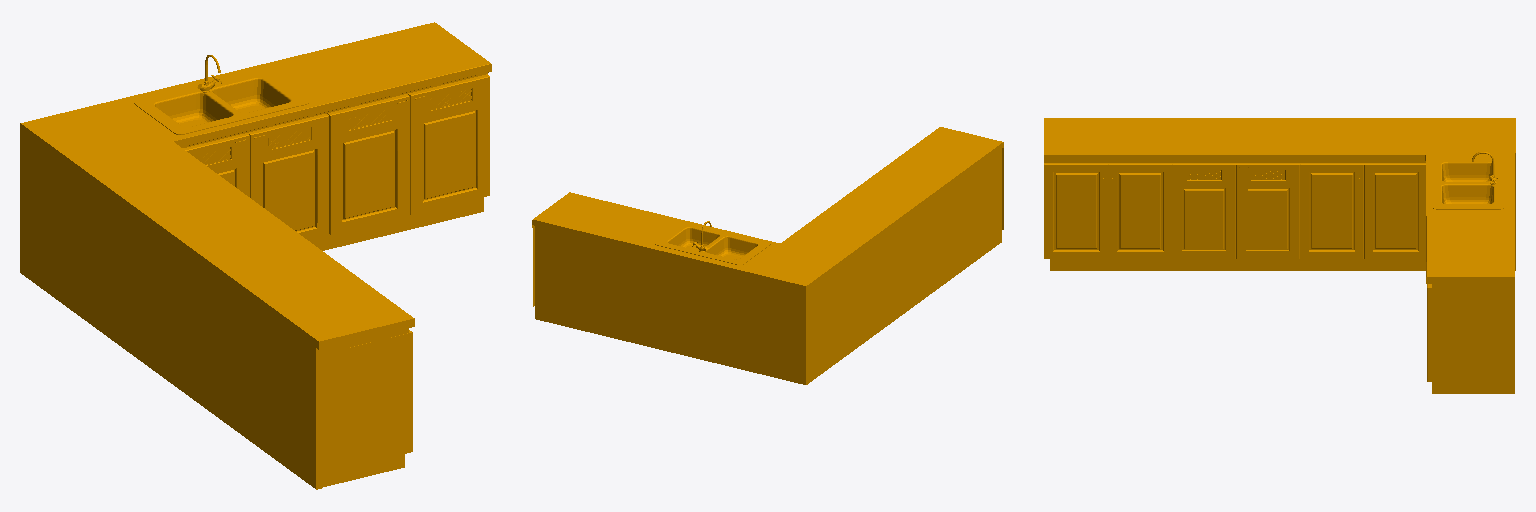
robot.urdf — aws_robomaker_residential_KitchenCabinet_01:
<?xml version="1.0" ?>
<robot name="aws_robomaker_residential_KitchenCabinet_01">
  <link name="link">
    <inertial>
      <origin xyz="0 0 0" rpy="0 0 0"/>
      <mass value="1.0"/>
      <inertia ixx="0.1" ixy="0.0" ixz="0.0" iyy="0.1" iyz="0.0" izz="0.1"/>
    </inertial>
    <visual name="visual">
      <origin xyz="0 0 0" rpy="0 0 0"/>
      <geometry>
        <mesh filename="meshes/aws_KitchenCabinet_02_visual.DAE"/>
      </geometry>
    </visual>
    <collision name="collision">
      <origin xyz="0 0 0" rpy="0 0 0"/>
      <geometry>
        <mesh filename="meshes/aws_KitchenCabinet_01_collision.DAE"/>
      </geometry>
    </collision>
  </link>
</robot>

--- What the picture shows (computed from the rendered views, not written in the file) ---
The picture shows the robot from 3 angles, left to right: view 1: azimuth 30°, elevation 25°; view 2: azimuth 150°, elevation 25°; view 3: azimuth 270°, elevation 25°; orthographic projection.
Model aws_robomaker_residential_KitchenCabinet_01 with 1 links and 0 joints (none), rooted at link, posed all joints at 0.
Visible links, largest first — view 1: link; view 2: link; view 3: link.
Link boxes in pixels (<box>): link: <box>20,22,491,489</box>; link: <box>532,127,1003,384</box>; link: <box>1044,118,1515,393</box>.
Size in the robot's own frame: 2.58 by 3.22 by 1.13 metres.
1 mesh visuals loaded from 1 distinct referenced files (1 Collada DAE).